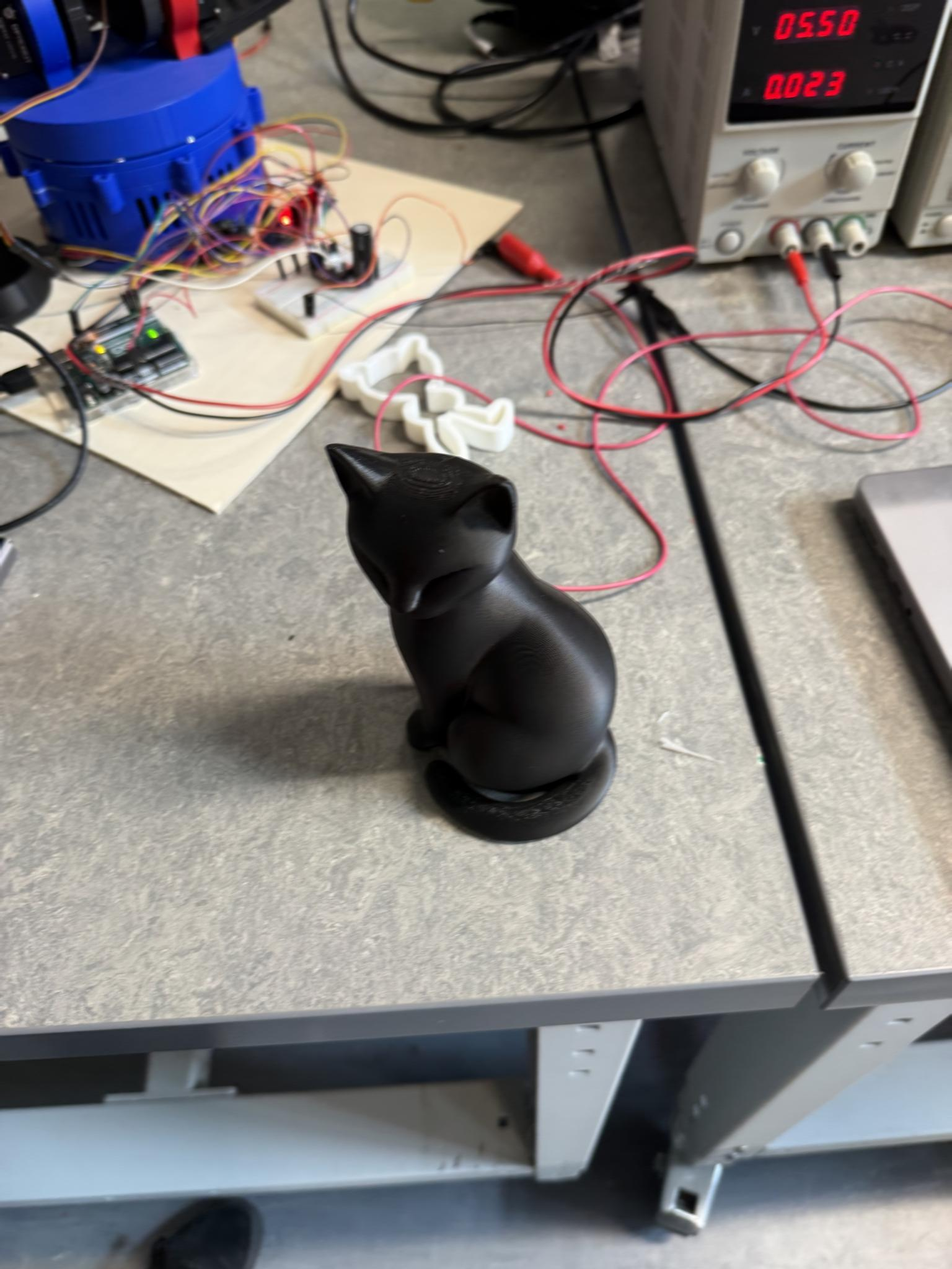cat: (327, 444, 616, 841)
